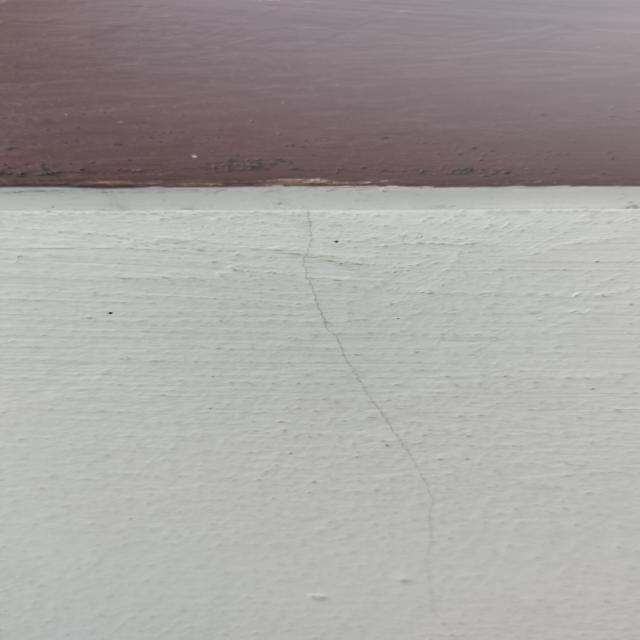Crack: (292, 214, 470, 639)
